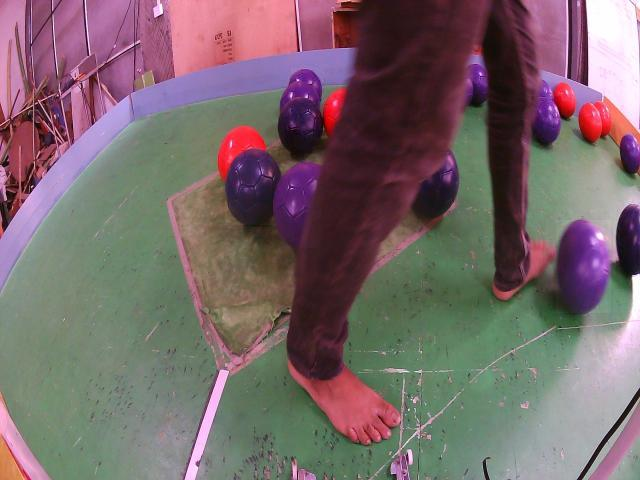jambhalya: (556, 220, 611, 313), (273, 162, 321, 248), (532, 97, 561, 144), (280, 80, 320, 109), (288, 69, 323, 99), (466, 64, 489, 105), (620, 134, 640, 173), (538, 79, 552, 98)
kaalyya: (225, 148, 281, 225), (413, 150, 459, 218), (278, 96, 322, 156), (616, 205, 640, 276)
